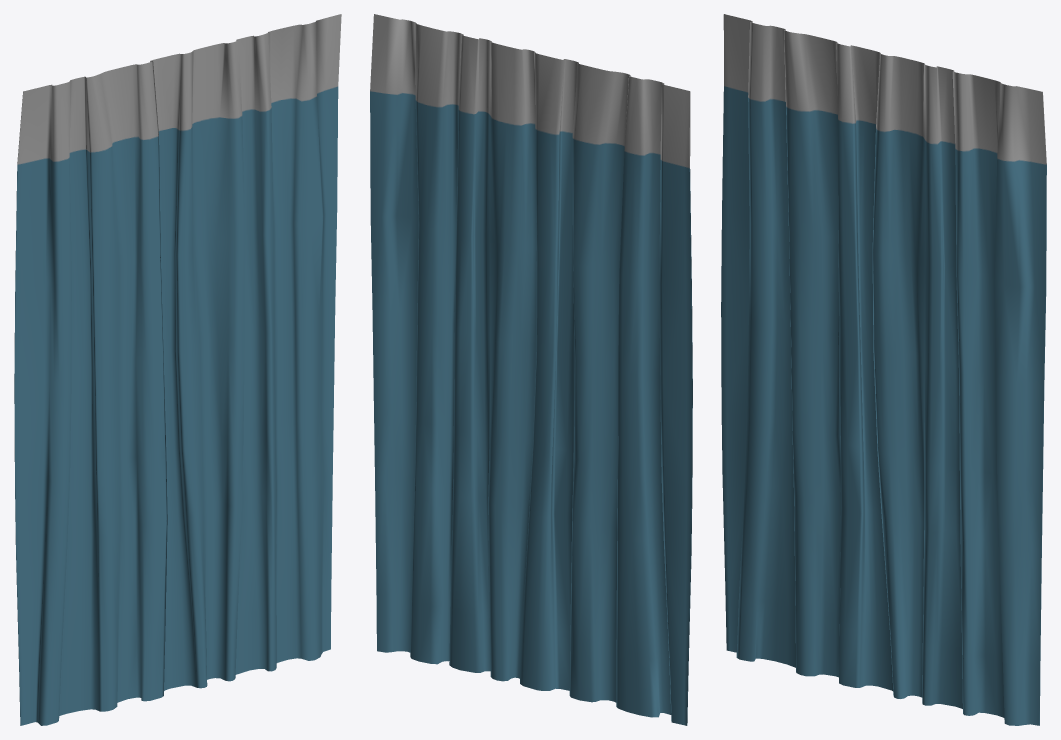
The model's file is Curtain.fbx.
3 views of the same model, side by side, from view 1: azimuth 30°, elevation 25°; view 2: azimuth 150°, elevation 25°; view 3: azimuth 330°, elevation 25° (orthographic).
Parts seen in each view (by area): view 1: Curtain2; view 2: Curtain2; view 3: Curtain2.
Part boxes in pixels (x1=…): Curtain2: x1=14, y1=14, x2=341, y2=725; Curtain2: x1=370, y1=14, x2=692, y2=725; Curtain2: x1=721, y1=14, x2=1046, y2=725.
Size of the model in its own units: 133 by 249 by 6.6.
